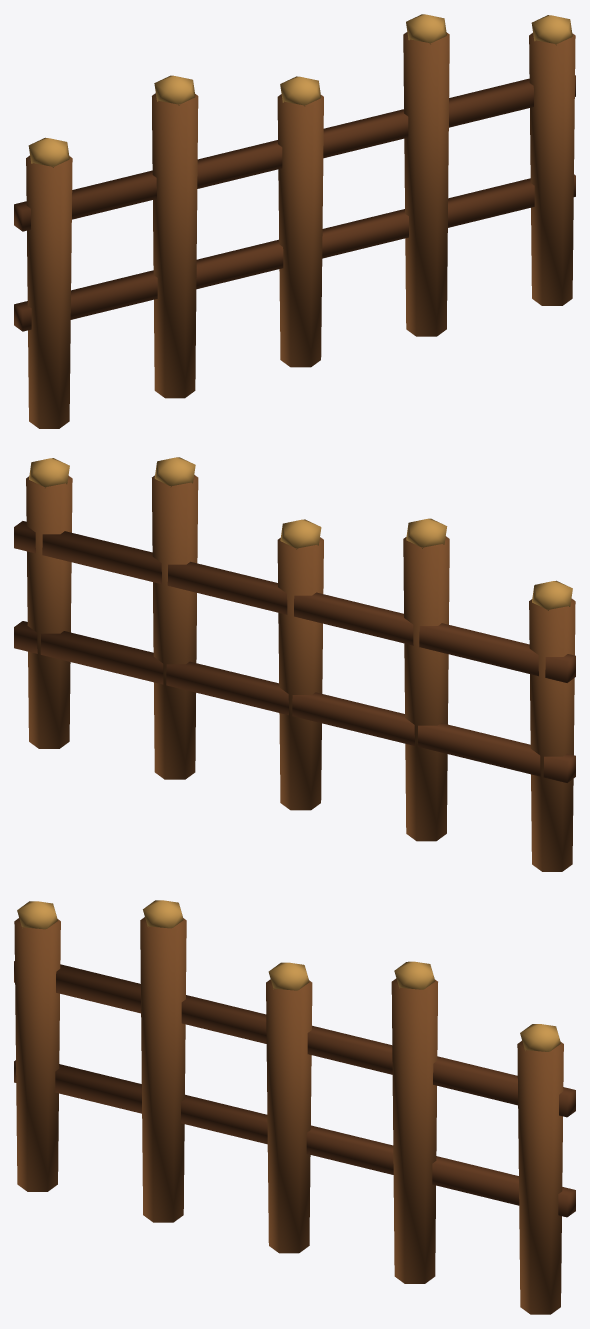
File: fence.glb
The picture shows the model from 3 angles, top to bottom: view 1: azimuth 30°, elevation 25°; view 2: azimuth 150°, elevation 25°; view 3: azimuth 330°, elevation 25°; orthographic projection.
Visible parts, largest first — view 1: fence_post3, fence_post1, fence_post2, fence_post0, fence_post4, fence_rail_lo, fence_rail_hi, fence_cap1, fence_cap0, fence_cap2, fence_cap4, fence_cap3; view 2: fence_rail_lo, fence_rail_hi, fence_post1, fence_post3, fence_post0, fence_post4, fence_post2, fence_cap2, fence_cap3, fence_cap0, fence_cap1, fence_cap4; view 3: fence_post1, fence_post3, fence_post2, fence_post4, fence_post0, fence_rail_lo, fence_rail_hi, fence_cap2, fence_cap1, fence_cap3, fence_cap0, fence_cap4.
Part boxes in pixels (x1,y1,x2,y2): fence_post3: [403, 32, 449, 336]; fence_post1: [152, 93, 198, 398]; fence_post2: [277, 94, 323, 367]; fence_post0: [26, 155, 72, 428]; fence_post4: [529, 33, 575, 305]; fence_rail_lo: [14, 174, 575, 331]; fence_rail_hi: [14, 75, 575, 231]; fence_cap1: [154, 75, 195, 105]; fence_cap0: [28, 137, 69, 167]; fence_cap2: [280, 76, 320, 106]; fence_cap4: [531, 15, 572, 45]; fence_cap3: [406, 14, 446, 44]; fence_rail_lo: [14, 621, 575, 782]; fence_rail_hi: [14, 521, 575, 682]; fence_post1: [403, 536, 449, 841]; fence_post3: [152, 475, 198, 779]; fence_post0: [529, 598, 575, 871]; fence_post4: [26, 476, 72, 748]; fence_post2: [277, 537, 323, 810]; fence_cap2: [280, 519, 321, 549]; fence_cap3: [154, 457, 195, 487]; fence_cap0: [532, 580, 572, 610]; fence_cap1: [406, 518, 447, 548]; fence_cap4: [29, 458, 69, 488]; fence_post1: [140, 917, 186, 1222]; fence_post3: [391, 978, 437, 1283]; fence_post2: [266, 979, 312, 1253]; fence_post4: [517, 1041, 563, 1314]; fence_post0: [14, 918, 60, 1191]; fence_rail_lo: [14, 1060, 575, 1217]; fence_rail_hi: [14, 961, 575, 1117]; fence_cap2: [268, 962, 309, 990]; fence_cap1: [143, 900, 183, 928]; fence_cap3: [394, 961, 434, 989]; fence_cap0: [17, 901, 57, 929]; fence_cap4: [520, 1024, 560, 1051].
Size of the model in its own units: 2.2 by 1.2 by 0.16.
